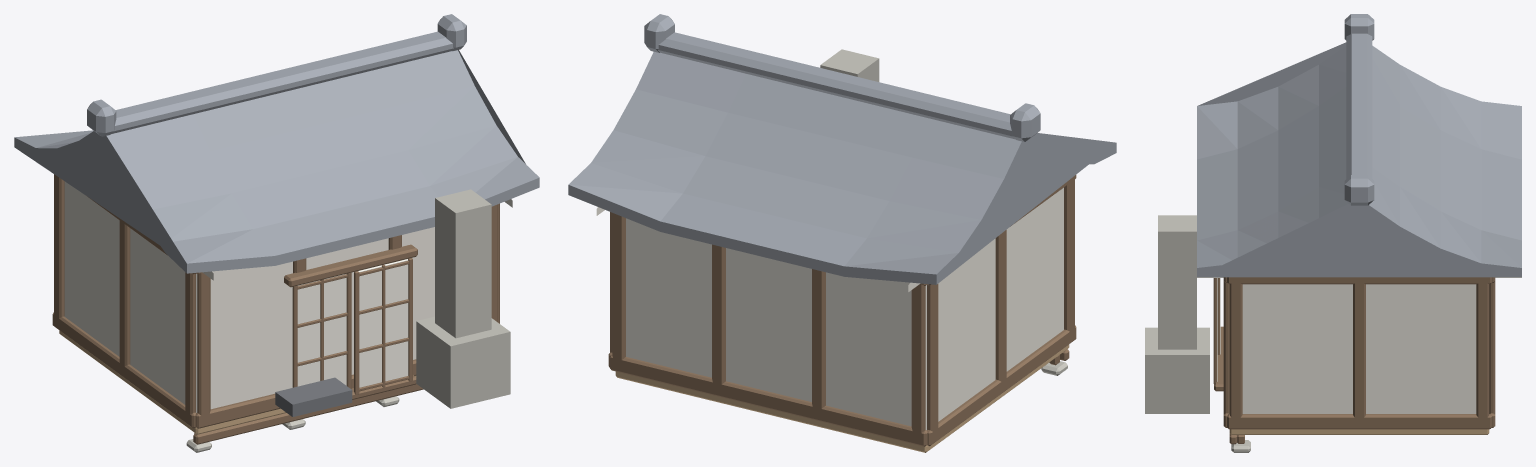
File: blacksmith-workshop.glb
The picture shows the model from 3 angles, left to right: view 1: azimuth 30°, elevation 25°; view 2: azimuth 150°, elevation 25°; view 3: azimuth 270°, elevation 25°; orthographic projection. The views are drawn at different scales.
Parts seen in each view (by area): view 1: blacksmith-workshop; view 2: blacksmith-workshop; view 3: blacksmith-workshop.
Part boxes in pixels (x1,y1,x2,y2): blacksmith-workshop: (14,14,539,452); blacksmith-workshop: (568,14,1116,452); blacksmith-workshop: (1145,14,1521,452).
Size of the model in its own units: 6.2 by 4.91 by 5.8.
